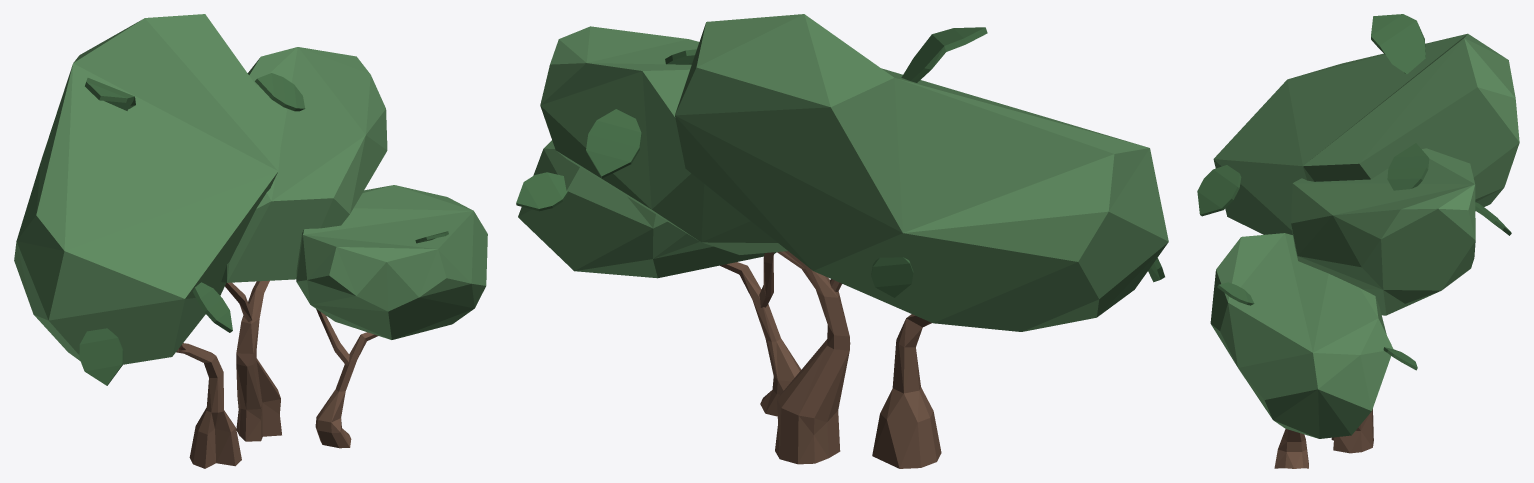
Rendered from _bush_3.glb.
The picture shows the model from 3 angles, left to right: view 1: azimuth 30°, elevation 25°; view 2: azimuth 150°, elevation 25°; view 3: azimuth 270°, elevation 25°; orthographic projection. The views are drawn at different scales.
Visible parts, largest first — view 1: bush_3; view 2: bush_3; view 3: bush_3.
Boxes of the visible parts, x1=… form: bush_3: x1=14, y1=14, x2=487, y2=468; bush_3: x1=516, y1=14, x2=1168, y2=468; bush_3: x1=1197, y1=14, x2=1519, y2=468.
Bounding box in the file's own units: 1.68 × 1.36 × 1.05.
Materials: 1 (1 with a texture image).
